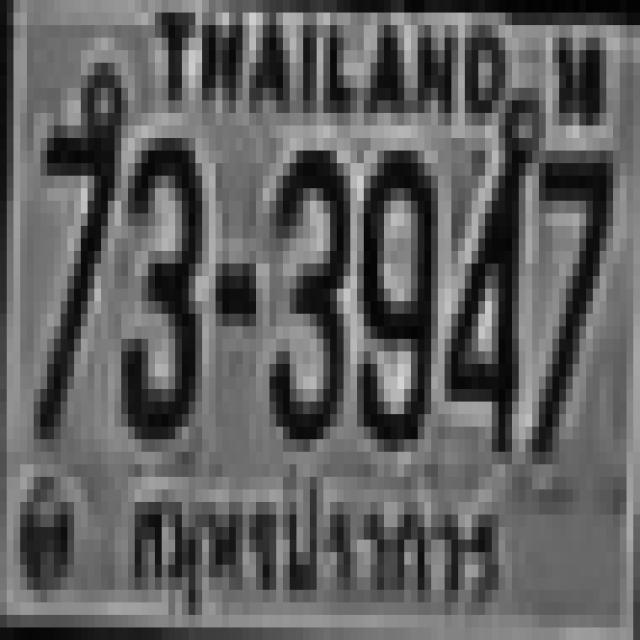3: (118, 132, 199, 433), (270, 138, 344, 439)
4: (444, 132, 526, 445)
7: (34, 56, 121, 433), (529, 150, 610, 452)
9: (357, 138, 431, 439)
SamutPrakan: (124, 468, 506, 620)
